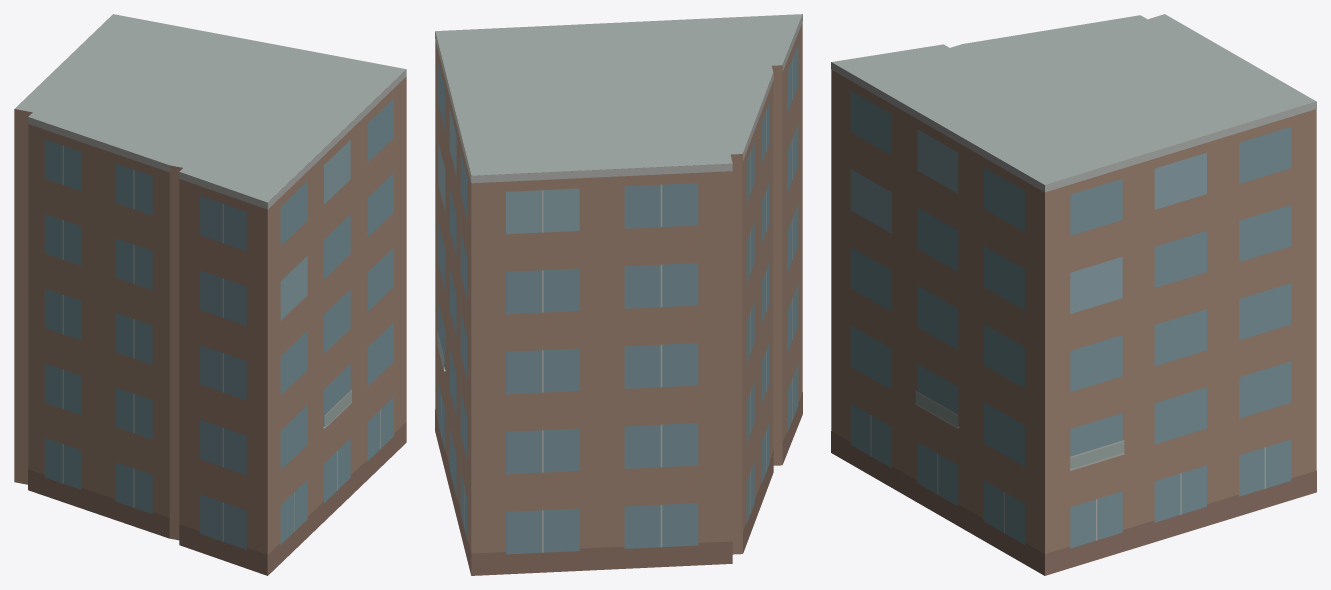
File: survey-upis-32715198.glb
The picture shows the model from 3 angles, left to right: view 1: azimuth 30°, elevation 25°; view 2: azimuth 150°, elevation 25°; view 3: azimuth 270°, elevation 25°; orthographic projection. The views are drawn at different scales.
Visible parts, largest first — view 1: survey-upis-32715198.tmp; view 2: survey-upis-32715198.tmp; view 3: survey-upis-32715198.tmp.
Part boxes in pixels (left/top/right/bottom): survey-upis-32715198.tmp: left=14, top=14, right=406, bottom=575; survey-upis-32715198.tmp: left=435, top=14, right=802, bottom=575; survey-upis-32715198.tmp: left=831, top=14, right=1316, bottom=575.
Bounding box in the file's own units: 12.12 × 12.9 × 14.53.
